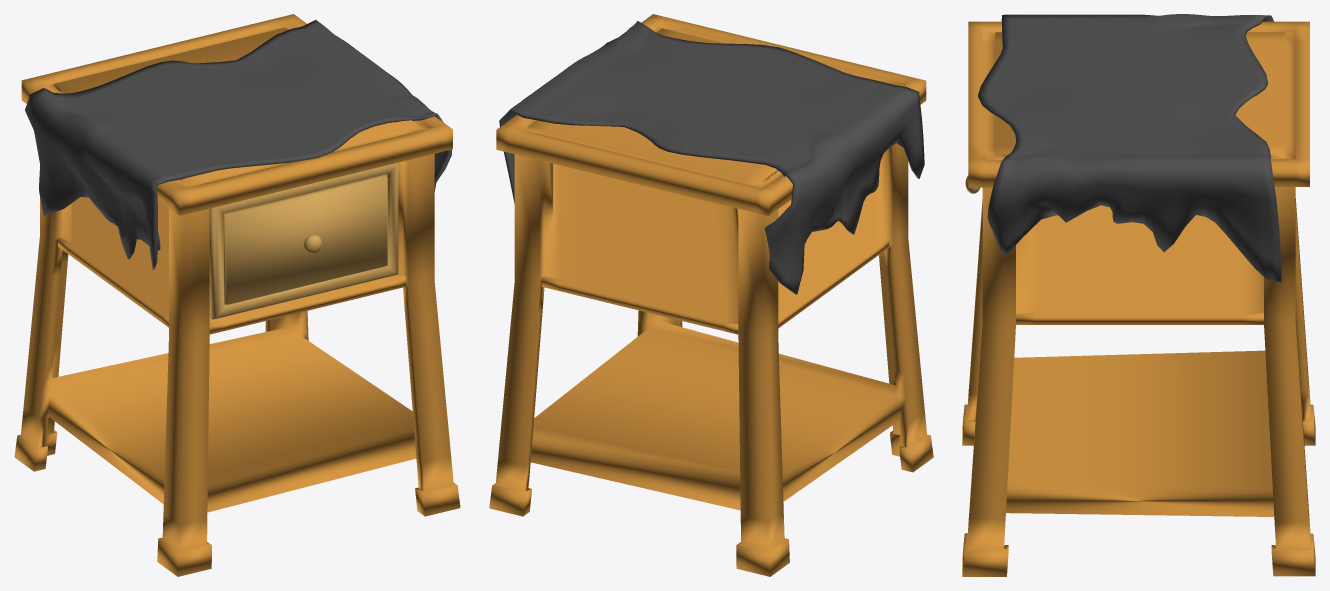
The model's file is Drawer.fbx.
3 renders of one model, left to right at view 1: azimuth 30°, elevation 25°; view 2: azimuth 150°, elevation 25°; view 3: azimuth 270°, elevation 25°, orthographic. The views are drawn at different scales.
Visible parts, largest first — view 1: MainTable, Plane, Drawer; view 2: MainTable, Plane; view 3: MainTable, Plane.
Boxes of the visible parts, <box> form: MainTable: <box>14,14,460,576</box>; Plane: <box>25,20,451,269</box>; Drawer: <box>209,162,398,319</box>; MainTable: <box>489,14,933,576</box>; Plane: <box>499,21,924,294</box>; MainTable: <box>962,21,1315,576</box>; Plane: <box>978,14,1281,281</box>.
Size of the model in its own units: 103 by 127 by 97.33.
